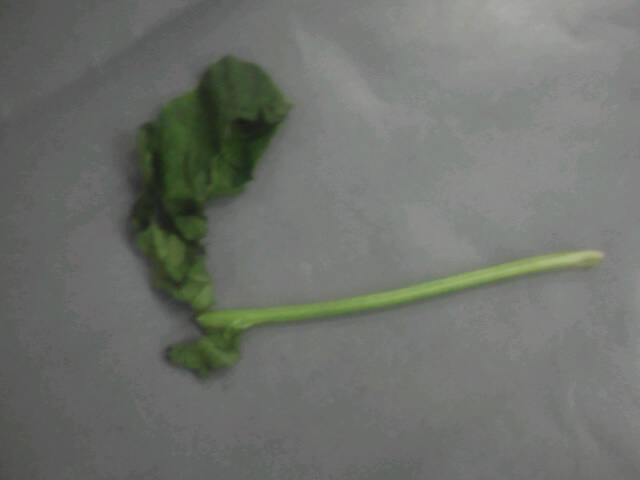yellow: (120, 36, 299, 394)
